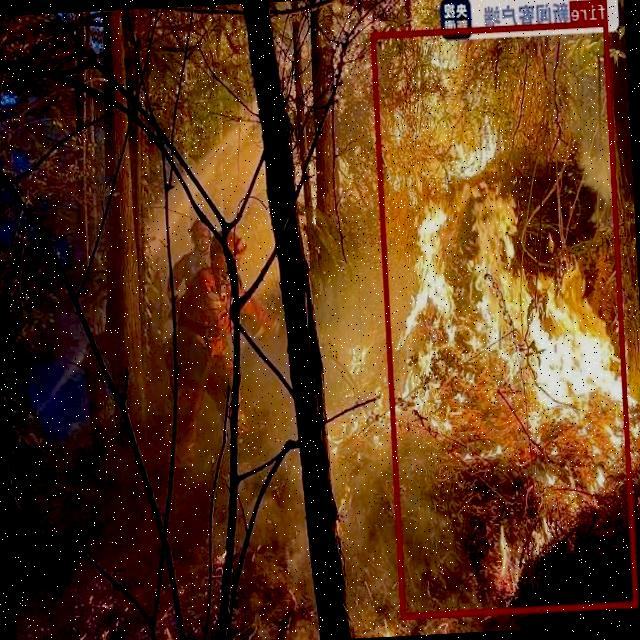fire: (372, 20, 638, 619)
